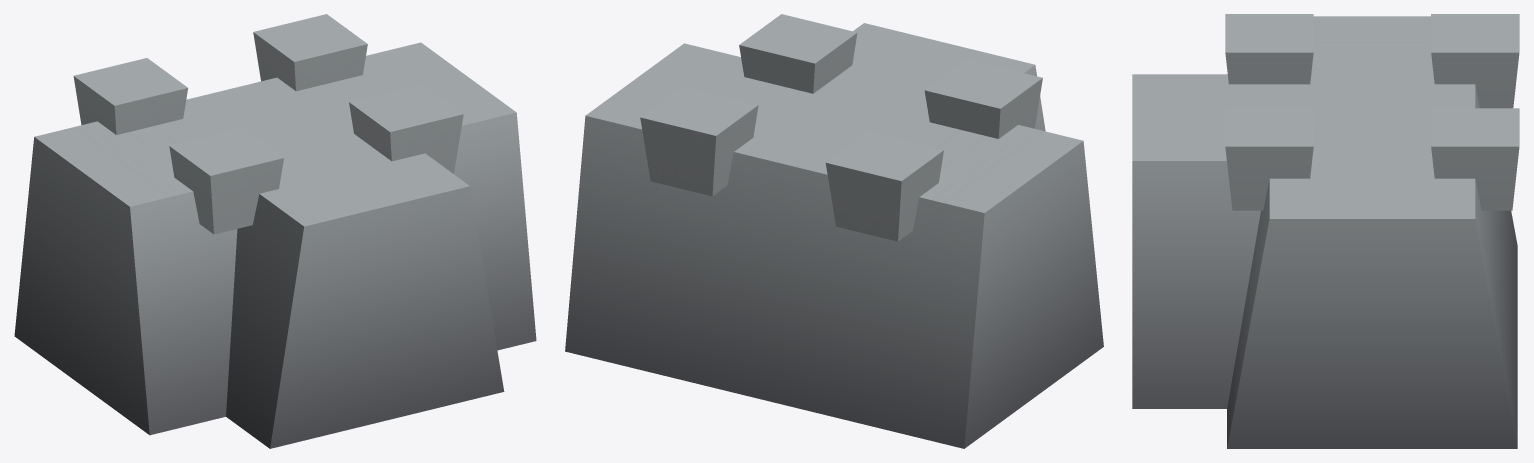
Rendered from SM_WallTsect_Rampart.fbx.
3 views of the same model, side by side, from view 1: azimuth 30°, elevation 25°; view 2: azimuth 150°, elevation 25°; view 3: azimuth 270°, elevation 25° (orthographic). The views are drawn at different scales.
Visible parts, largest first — view 1: SM_WallTsect_Rampart; view 2: SM_WallTsect_Rampart; view 3: SM_WallTsect_Rampart.
Boxes of the visible parts, x1,y1,x2,y2 form: SM_WallTsect_Rampart: (14, 14, 536, 448); SM_WallTsect_Rampart: (565, 14, 1103, 448); SM_WallTsect_Rampart: (1132, 14, 1519, 448).
Bounding box in the file's own units: 200 × 121 × 161.
